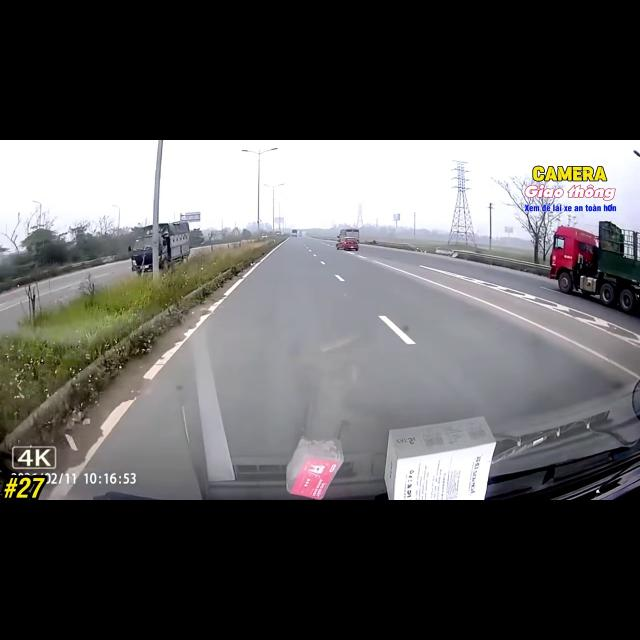car: (336, 238, 358, 250)
truck: (550, 221, 639, 312), (158, 222, 190, 269), (338, 228, 359, 241), (292, 229, 297, 236)
